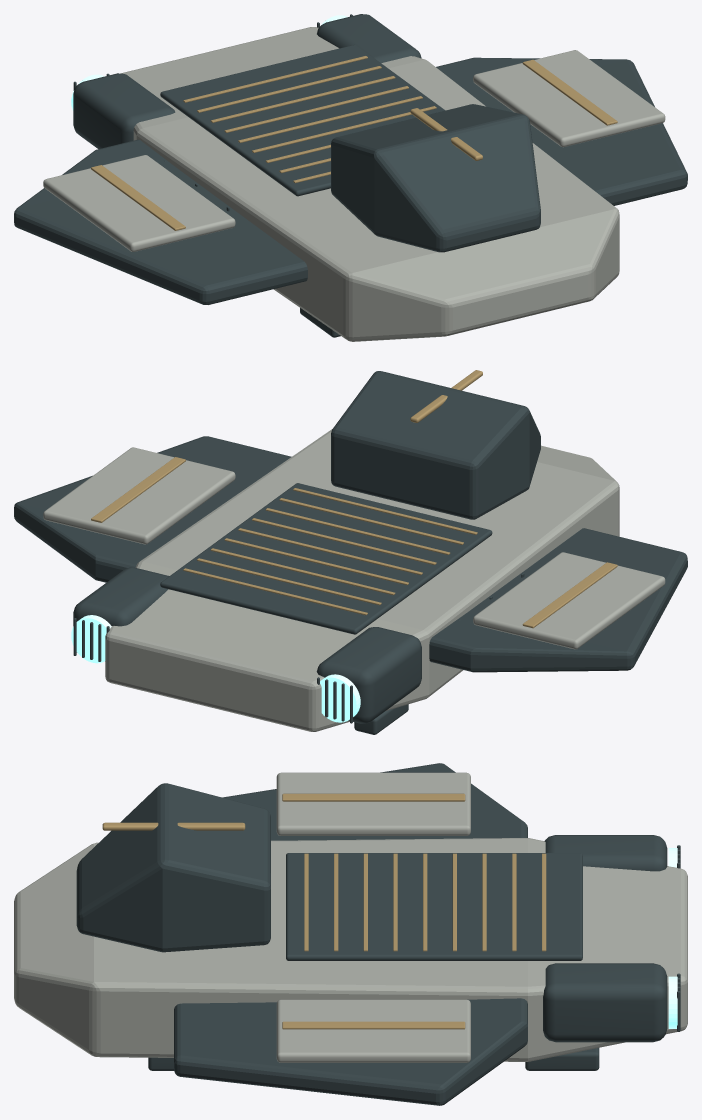
The model's file is Shuttle.glb.
3 views of the same model, one above another, from view 1: azimuth 30°, elevation 25°; view 2: azimuth 150°, elevation 25°; view 3: azimuth 270°, elevation 25° (orthographic). The views are drawn at different scales.
Visible parts, largest first — view 1: MainHull, Wing, CockpitFrame, CargoDeck, WingPanel, WingPanel.001, EngineHousing, EngineHousing.001, WingStripe.001, WingStripe, DeckSlat.006, DeckSlat.008 (+5 smaller); view 2: MainHull, CargoDeck, Wing, CockpitFrame, WingPanel, WingPanel.001, EngineHousing, EngineHousing.001, Cylinder, WingStripe, WingStripe.001, Cylinder.001 (+11 smaller); view 3: MainHull, CargoDeck, CockpitFrame, Wing, WingPanel.001, WingPanel, EngineHousing.001, EngineHousing, WingStripe.001, WingStripe, LandingFoot.003, CanopySpine.
Boxes of the visible parts, x1,y1,x2,y2 form: MainHull: (120,27,619,341); Wing: (14,57,687,304); CockpitFrame: (331,104,540,252); CargoDeck: (160,45,445,196); WingPanel: (43,155,235,251); WingPanel.001: (473,50,665,147); EngineHousing: (73,73,175,149); EngineHousing.001: (317,14,421,63); WingStripe.001: (522,59,617,125); WingStripe: (91,165,185,230); DeckSlat.006: (210,76,395,122); DeckSlat.008: (183,56,367,102); MainHull: (105,429,619,731); CargoDeck: (160,483,492,634); Wing: (14,436,687,672); CockpitFrame: (331,371,540,519); WingPanel: (473,552,665,649); WingPanel.001: (43,447,235,544); EngineHousing: (316,627,421,723); EngineHousing.001: (73,567,169,626); Cylinder: (320,674,360,722); WingStripe: (522,562,617,628); WingStripe.001: (91,457,185,522); Cylinder.001: (71,615,111,663); MainHull: (14,838,687,1061); CargoDeck: (286,853,582,960); CockpitFrame: (76,783,270,952); Wing: (174,763,527,1105); WingPanel.001: (276,999,470,1062); WingPanel: (276,772,470,835); EngineHousing.001: (543,963,667,1042); EngineHousing: (544,835,667,871); WingStripe.001: (282,1021,465,1029); WingStripe: (282,793,465,801); LandingFoot.003: (525,1048,599,1070); CanopySpine: (102,822,245,830).
Size of the model in its own units: 6.77 by 1.78 by 5.9.
